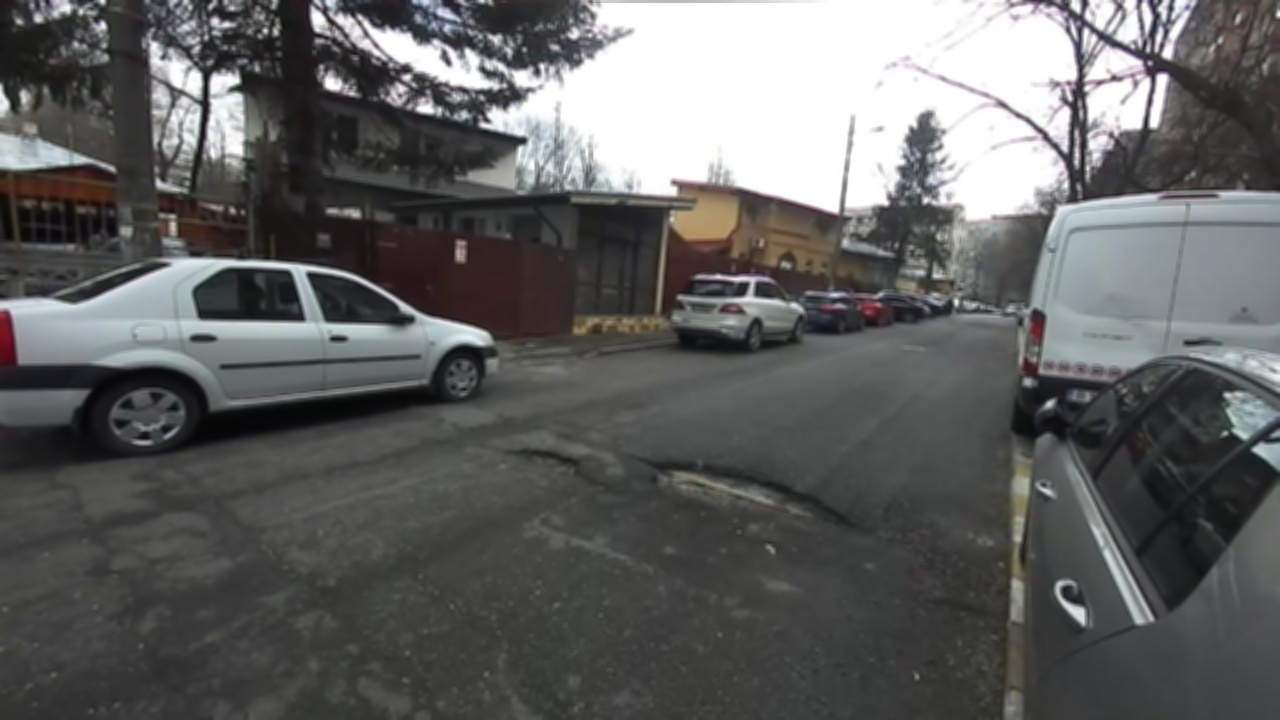pothole: (637, 452, 861, 533), (502, 443, 600, 489)
